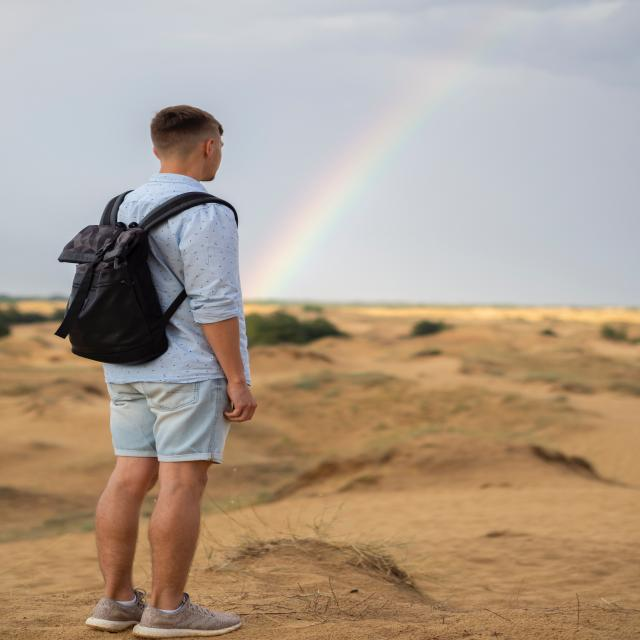backpack: (57, 196, 236, 361)
